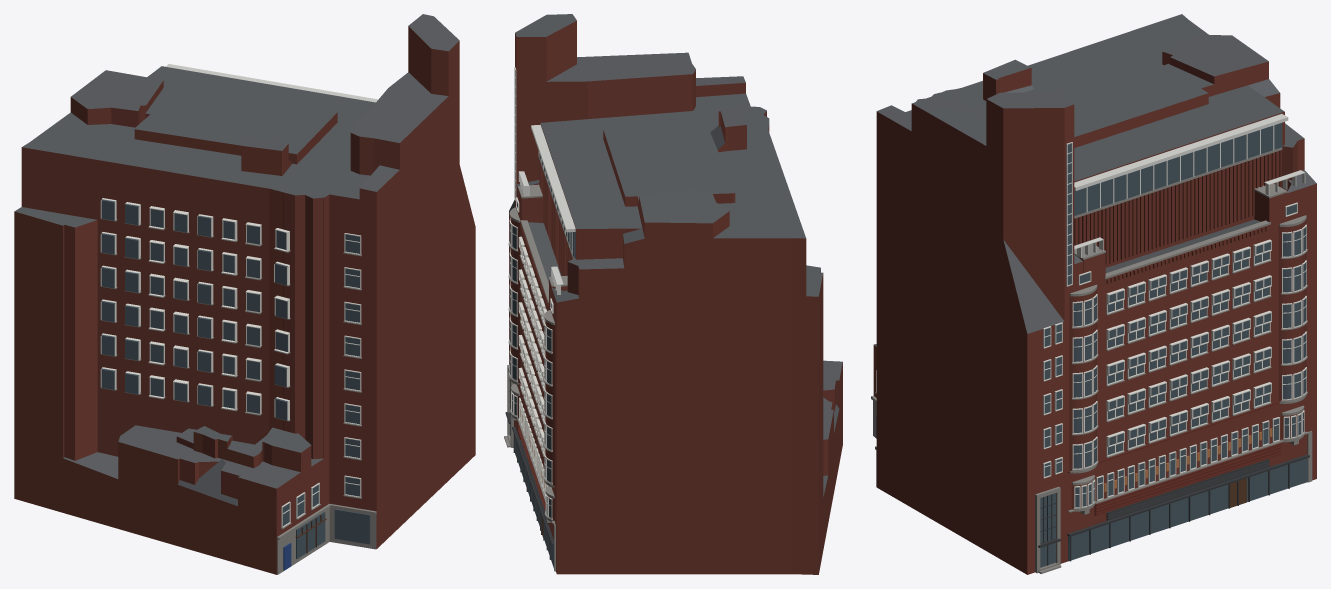
The model's file is atlanta-stadhouderskade.glb.
3 views of the same model, side by side, from view 1: azimuth 30°, elevation 25°; view 2: azimuth 150°, elevation 25°; view 3: azimuth 270°, elevation 25° (orthographic). The views are drawn at different scales.
Parts seen in each view (by area): view 1: atlanta-stadhouderskade; view 2: atlanta-stadhouderskade; view 3: atlanta-stadhouderskade.
Part boxes in pixels (x1,y1,x2,y2): atlanta-stadhouderskade: (14, 14, 475, 574); atlanta-stadhouderskade: (504, 14, 842, 574); atlanta-stadhouderskade: (871, 14, 1316, 574).
Bounding box in the file's own units: 40.6 × 42.93 × 38.11.
